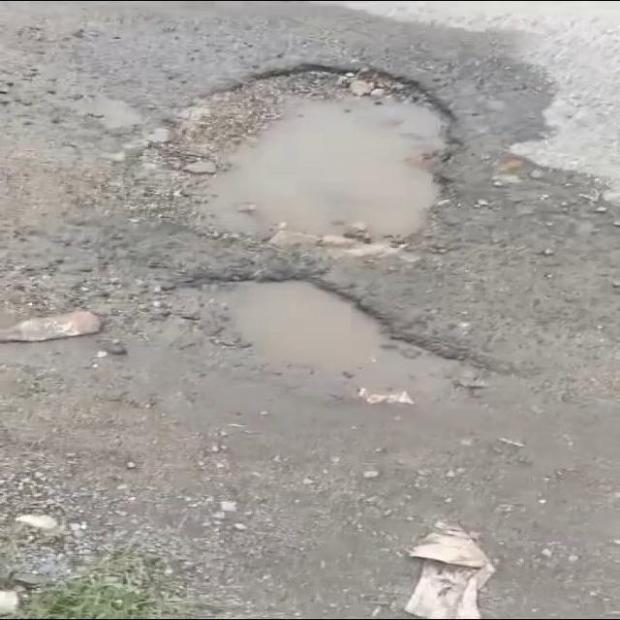lubang: (139, 73, 445, 245), (166, 281, 481, 403)
